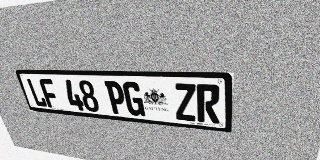4: (62, 79, 85, 111)
8: (77, 80, 100, 112)
F: (38, 79, 61, 109)
G: (122, 81, 145, 117)
L: (26, 78, 48, 107)
P: (104, 81, 127, 115)
R: (196, 84, 220, 124)
Z: (173, 83, 197, 121)
